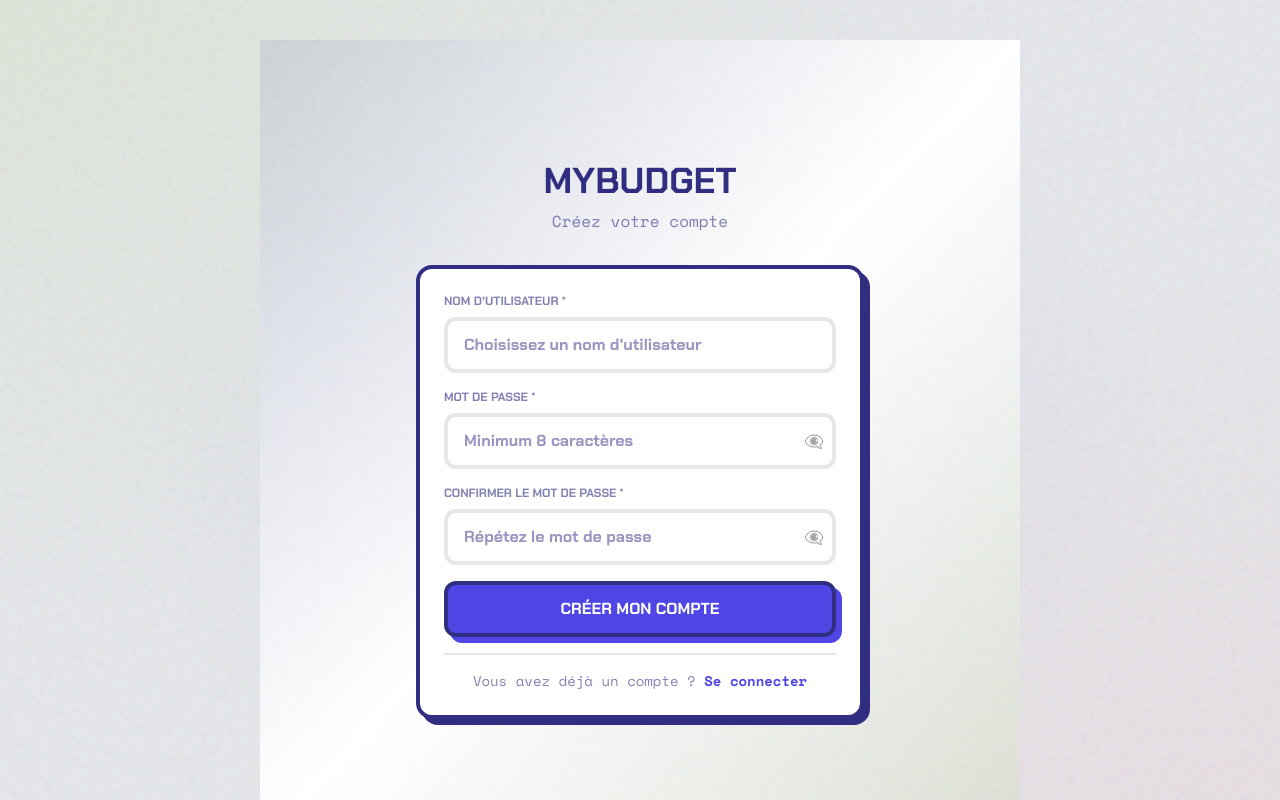
US01 - Inscription › Validation client: le mot de passe doit faire au moins 8 caractères
Type "alice" into the field with placeholder "Choisissez un nom d'utilisateur" at (640, 345), box [444,317,836,373]
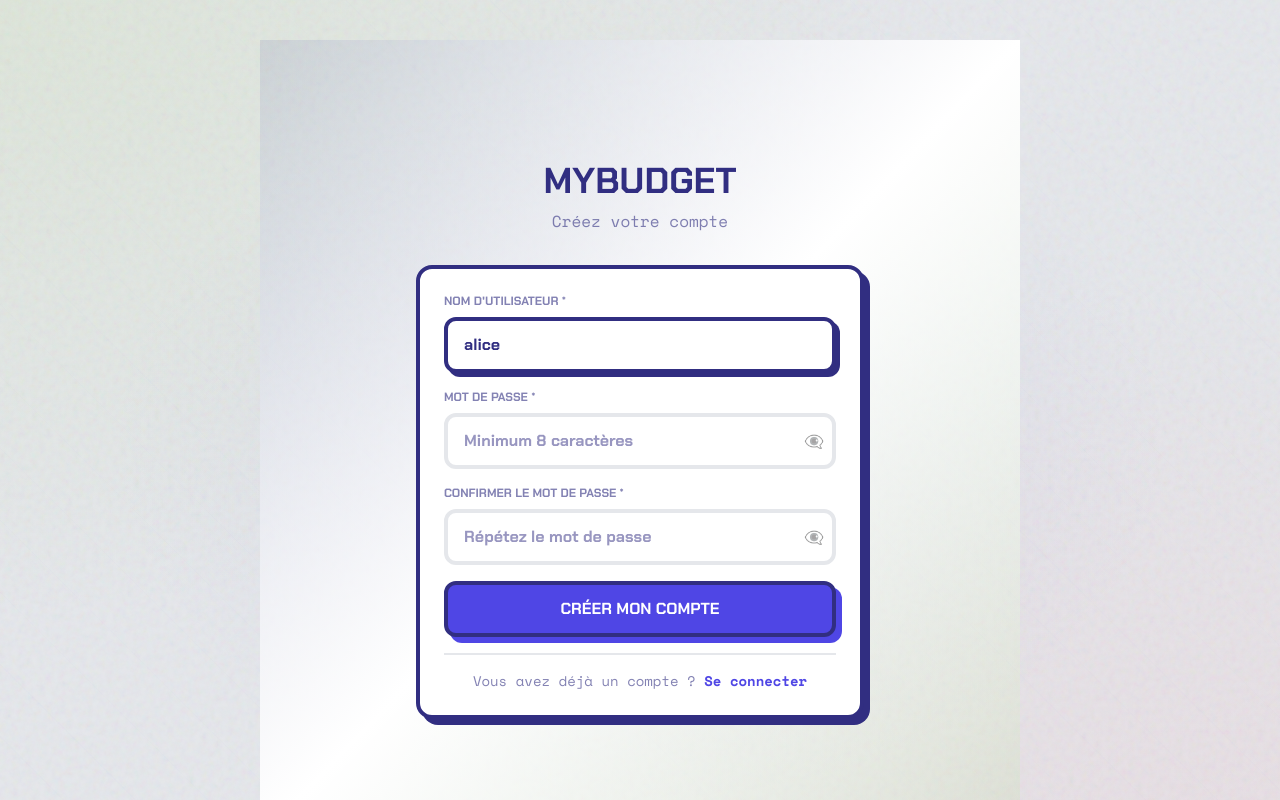
Type "Ab1!" into the password field with placeholder "Minimum 8 caractères" at (640, 441), box [444,413,836,469]
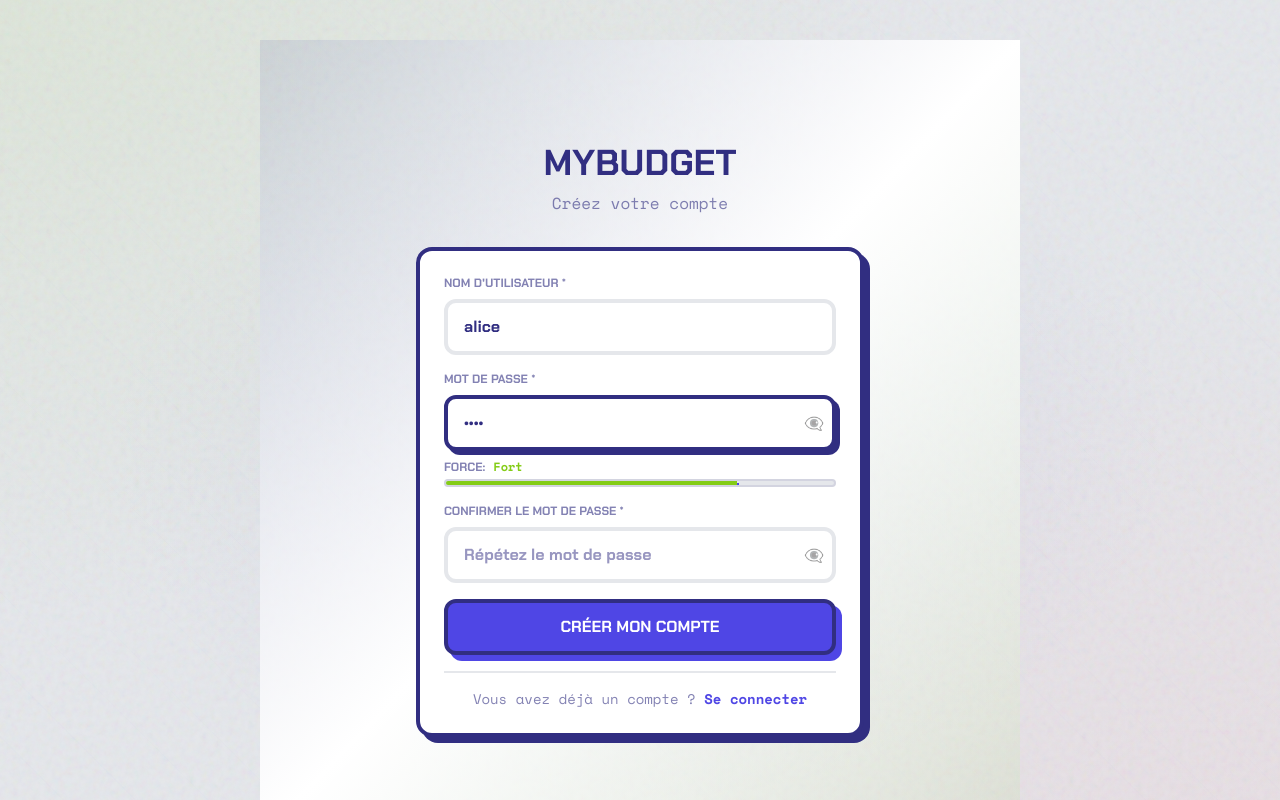
Type "Ab1!" into the password field with placeholder "Répétez le mot de passe" at (640, 555), box [444,527,836,583]
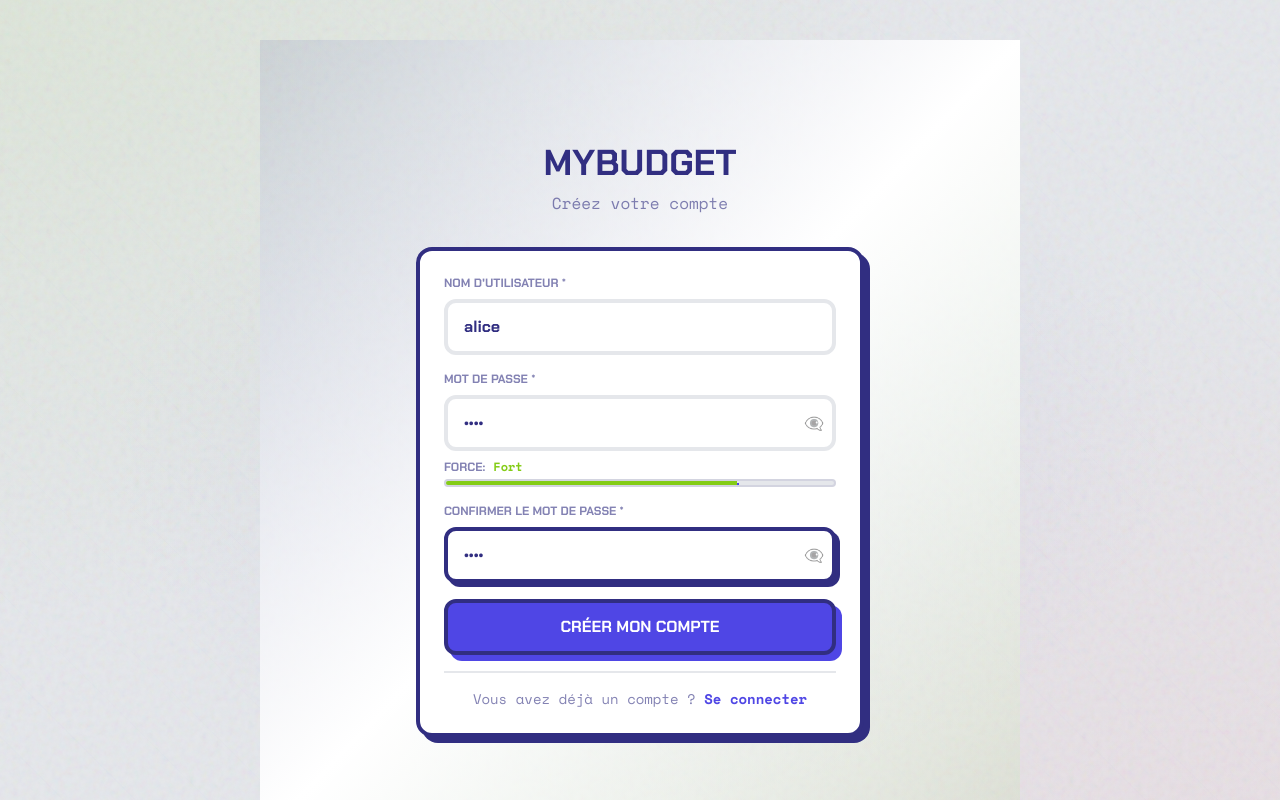
Click the button "Créer mon compte" at (640, 627), box [444,599,836,655]
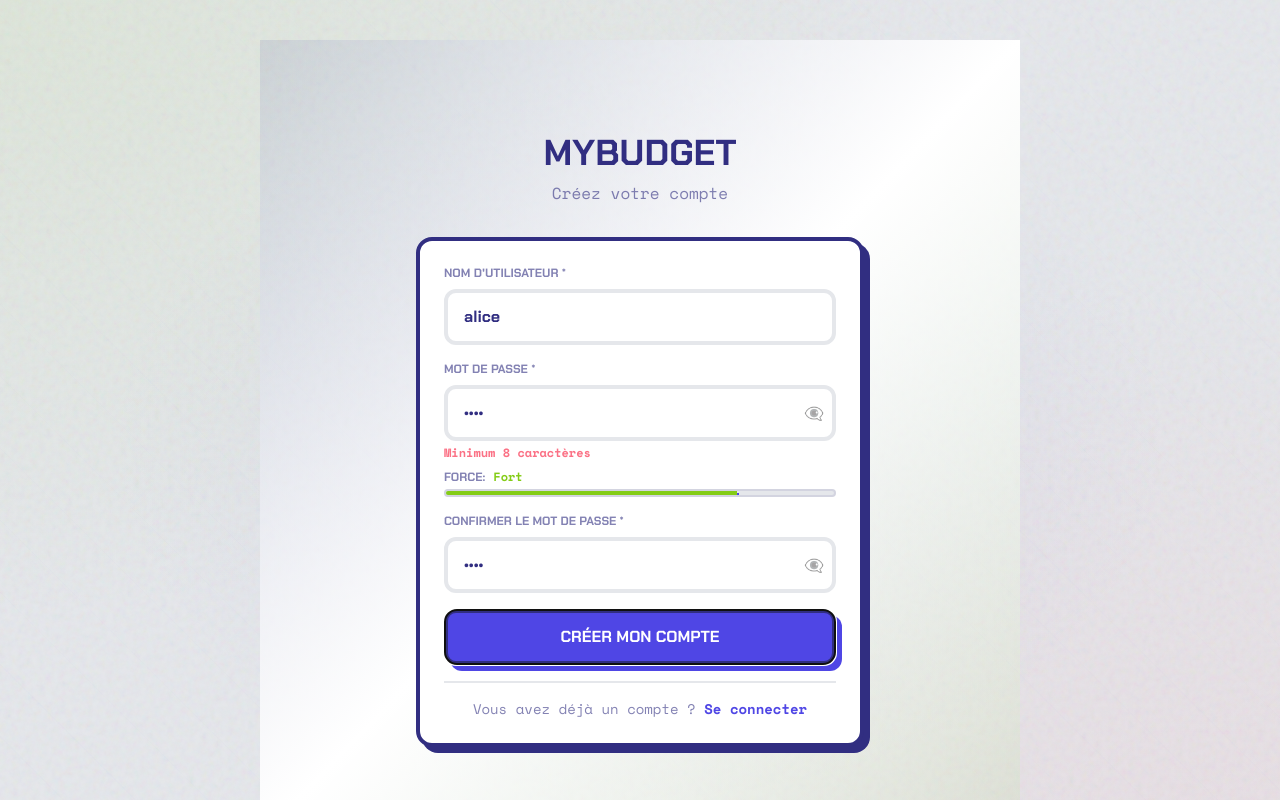
Result: the text "Minimum 8 caractères" is shown at [444,444,591,461]
